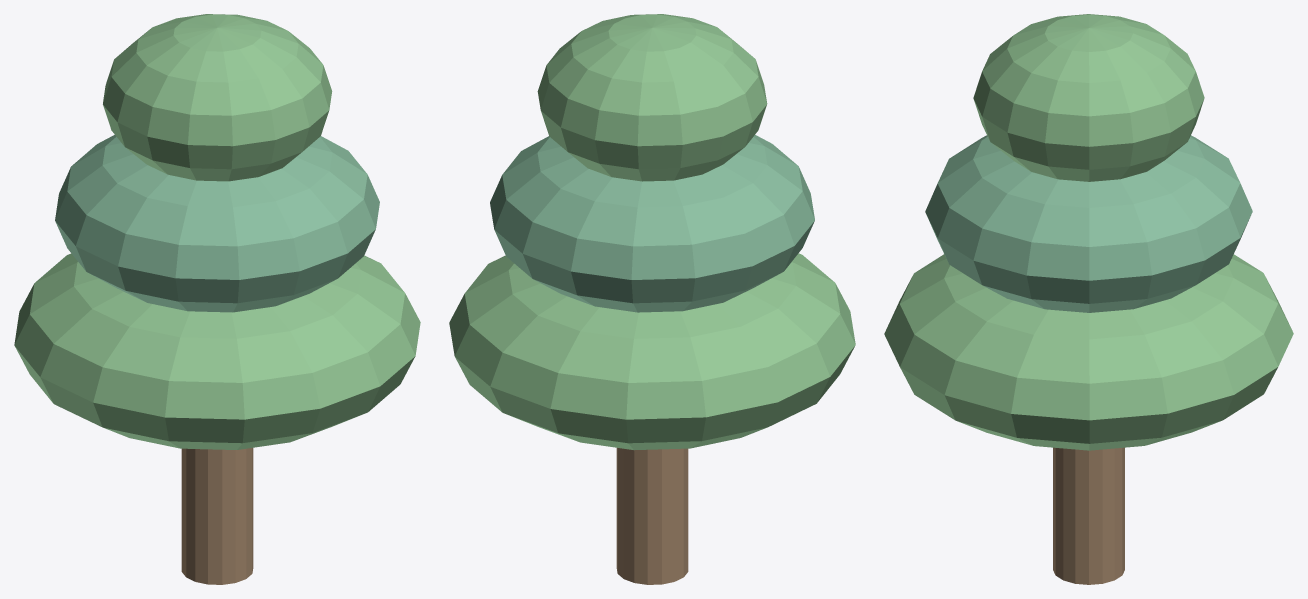
The model's file is PineTree.glb.
3 views of the same model, side by side, from view 1: azimuth 30°, elevation 25°; view 2: azimuth 150°, elevation 25°; view 3: azimuth 270°, elevation 25° (orthographic).
Visible parts, largest first — view 1: PineTree_1, PineTree_0, PineTree_2; view 2: PineTree_1, PineTree_0, PineTree_2; view 3: PineTree_1, PineTree_0, PineTree_2.
Boxes of the visible parts, x1=… form: PineTree_1: x1=14, y1=14, x2=420, y2=449; PineTree_0: x1=55, y1=135, x2=379, y2=312; PineTree_2: x1=181, y1=448, x2=253, y2=584; PineTree_1: x1=449, y1=14, x2=855, y2=450; PineTree_0: x1=490, y1=135, x2=814, y2=312; PineTree_2: x1=616, y1=448, x2=688, y2=584; PineTree_1: x1=884, y1=14, x2=1293, y2=450; PineTree_0: x1=925, y1=135, x2=1252, y2=312; PineTree_2: x1=1053, y1=447, x2=1124, y2=584.
Bounding box in the file's own units: 8.5 × 12.4 × 8.5.
